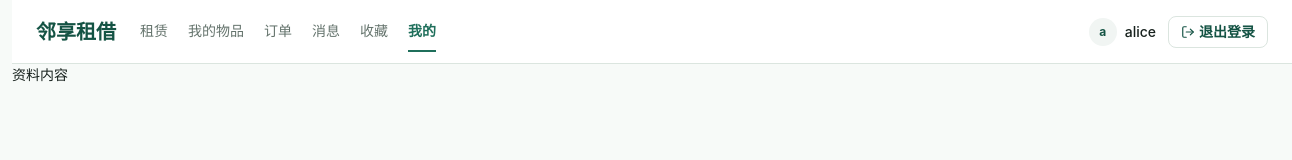
Test: AppLayout auth bootstrap › links topbar user area to profile and logs out back to home
The image size is (1292, 160).
What coordinates should you click on to do the following:
click the button "退出登录"
I would click on:
 (1218, 32)
Its box is top-left (1168, 16), bottom-right (1268, 48).
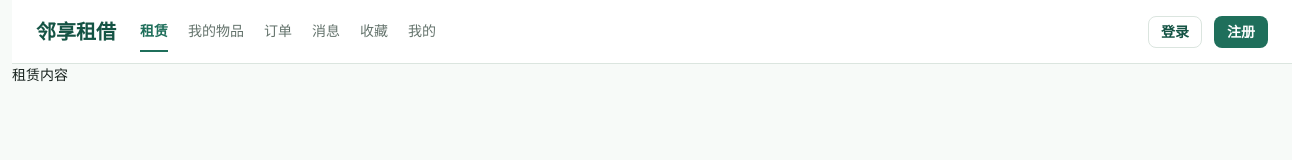
Check: the text "租赁内容" is shown, box top-left (12, 66), bottom-right (68, 83)
